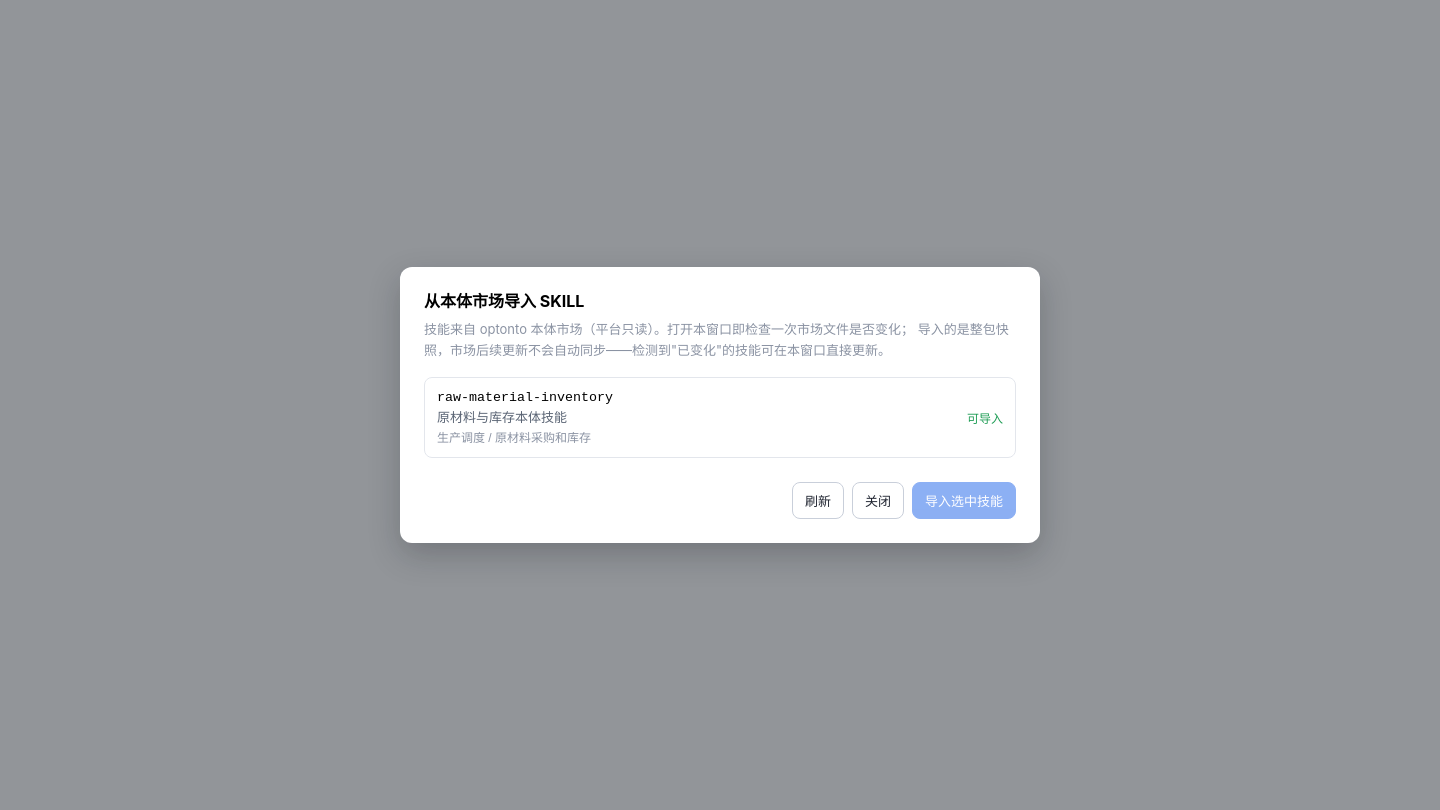
it: SkillMarketDialog —— 导入 › 导入失败不关窗：错误留在窗内（校验失败不关窗口径）
Click the button with class "skill-market__item" at (525, 397), box [424, 377, 1016, 458]
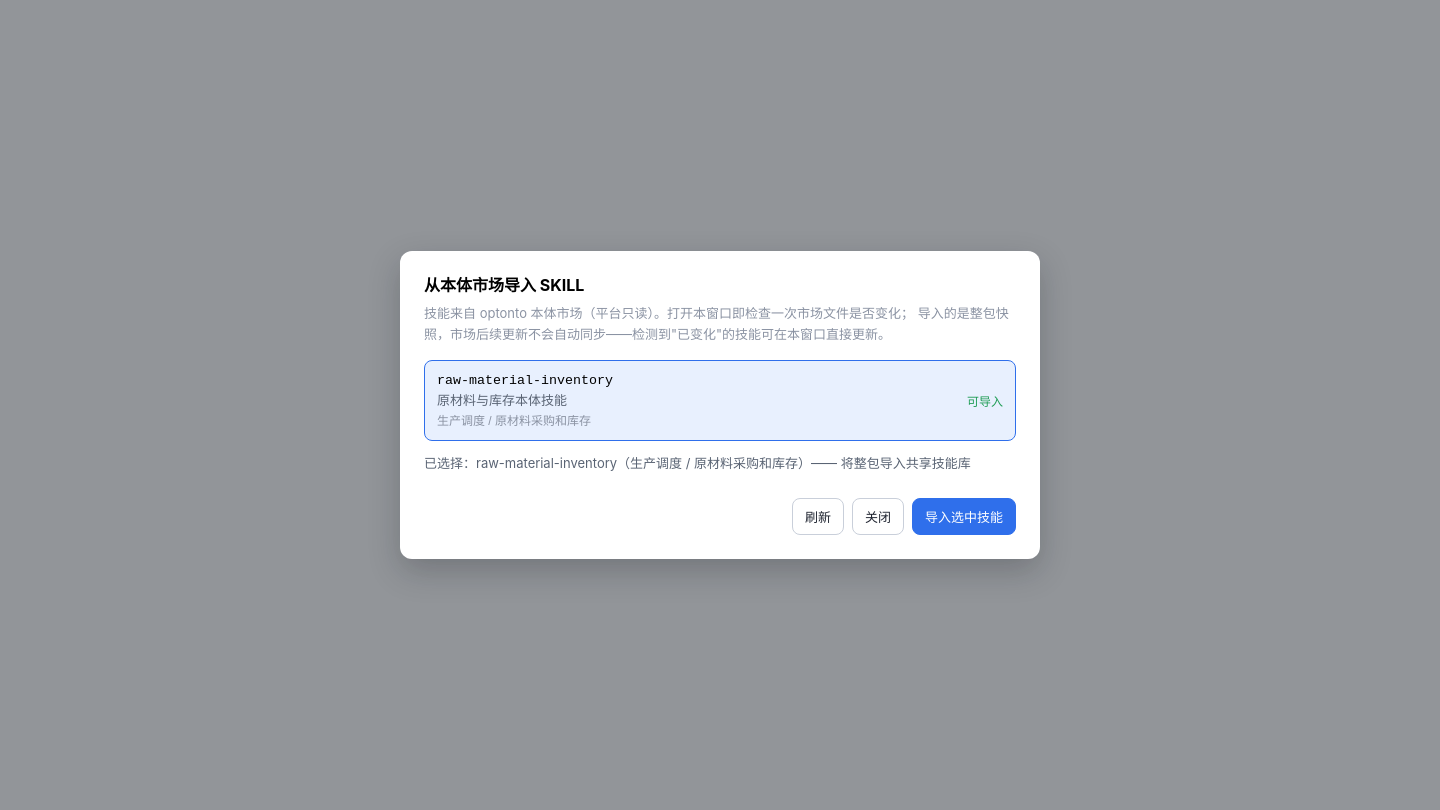
Click the button with test id "import" at (964, 517), box [912, 498, 1016, 535]
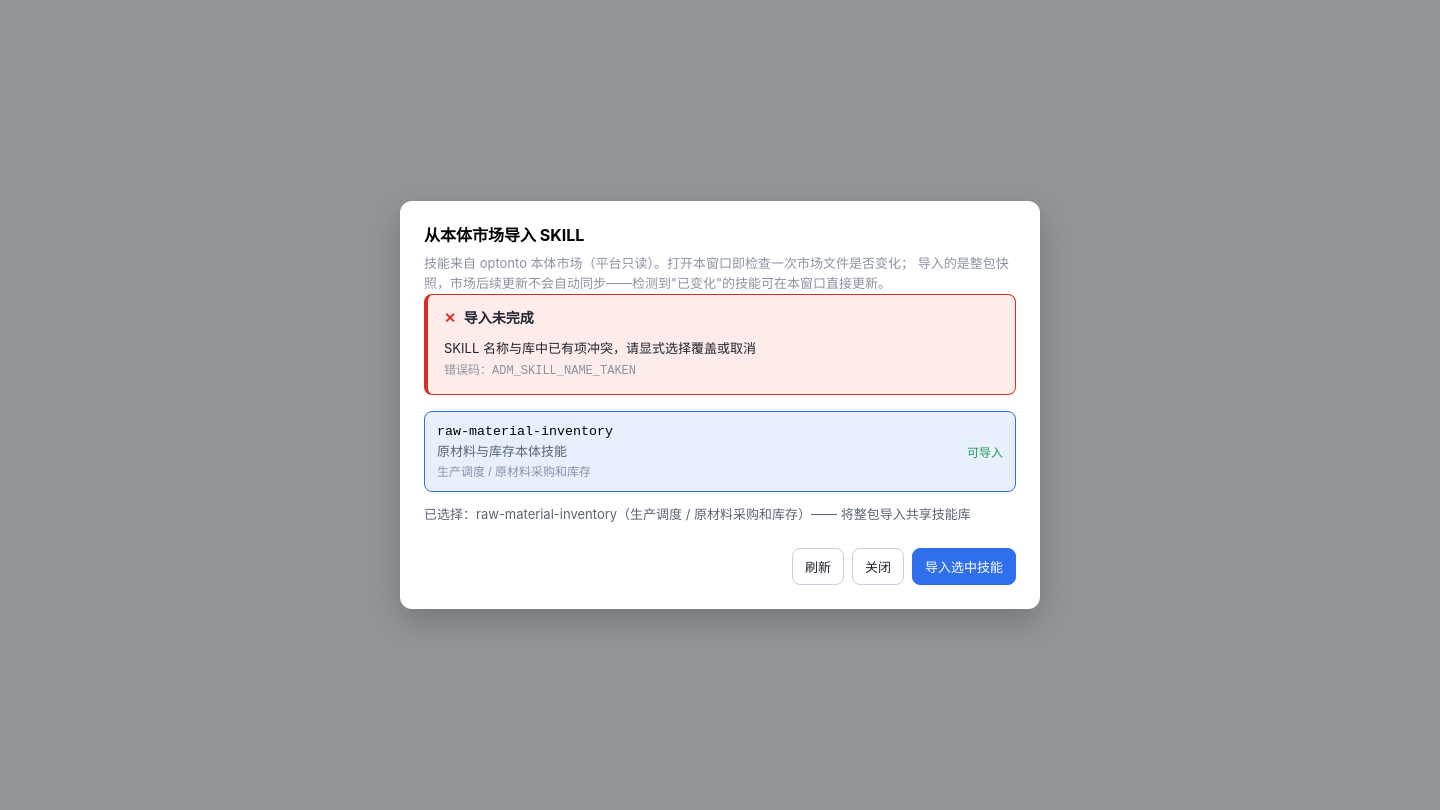
Result: the button with test id "import" is enabled at [912, 548, 1016, 585]
Result: the text "ADM_SKILL_NAME_TAKEN" is shown at [444, 364, 636, 378]
